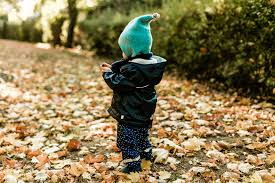child: (99, 9, 162, 173)
